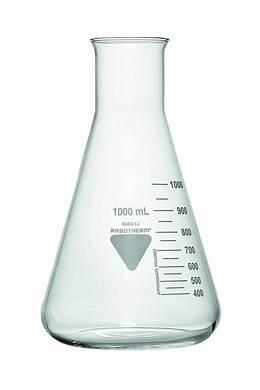Titrarion: (41, 35, 223, 342)
